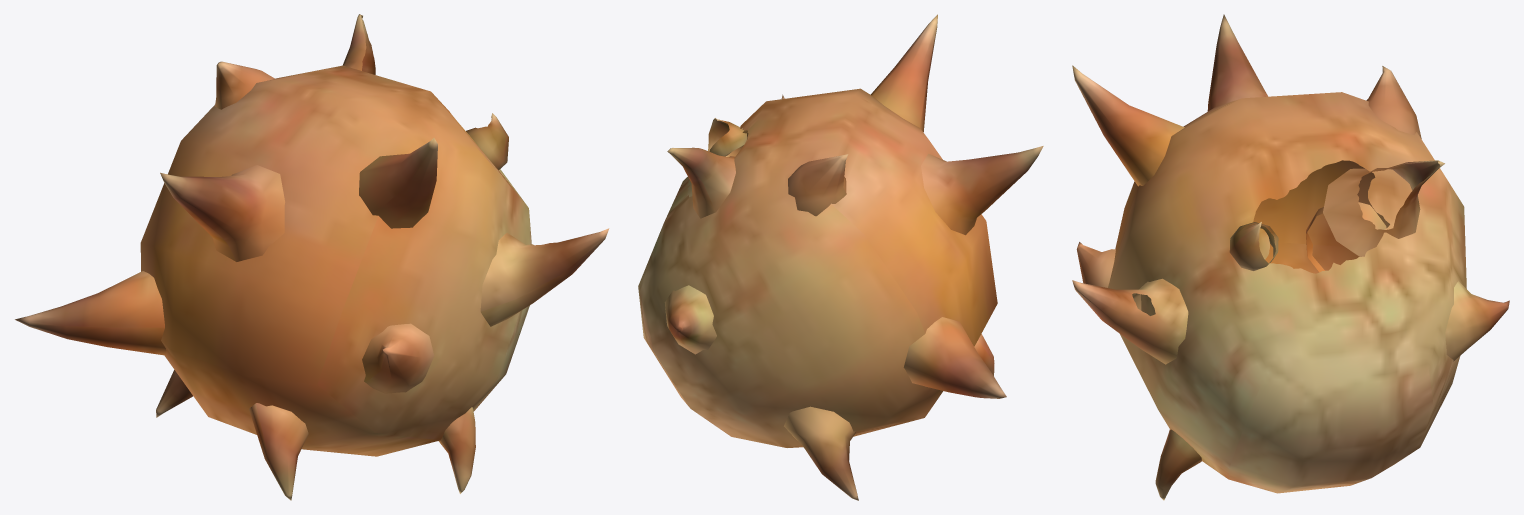
3 renders of one model, left to right at view 1: azimuth 30°, elevation 25°; view 2: azimuth 150°, elevation 25°; view 3: azimuth 270°, elevation 25°, orthographic. The views are drawn at different scales.
Parts seen in each view (by area): view 1: SM_Exploding_Plant_Trap_Flower_02_LOD0; view 2: SM_Exploding_Plant_Trap_Flower_02_LOD0; view 3: SM_Exploding_Plant_Trap_Flower_02_LOD0.
Part boxes in pixels (box(x1,y1,x2,y2)): SM_Exploding_Plant_Trap_Flower_02_LOD0: box(15, 14, 609, 500); SM_Exploding_Plant_Trap_Flower_02_LOD0: box(638, 14, 1043, 500); SM_Exploding_Plant_Trap_Flower_02_LOD0: box(1072, 14, 1509, 500).
Bounding box in the file's own units: 0.6463 × 0.5655 × 0.5594.
Materials: 1 (1 with a texture image).
